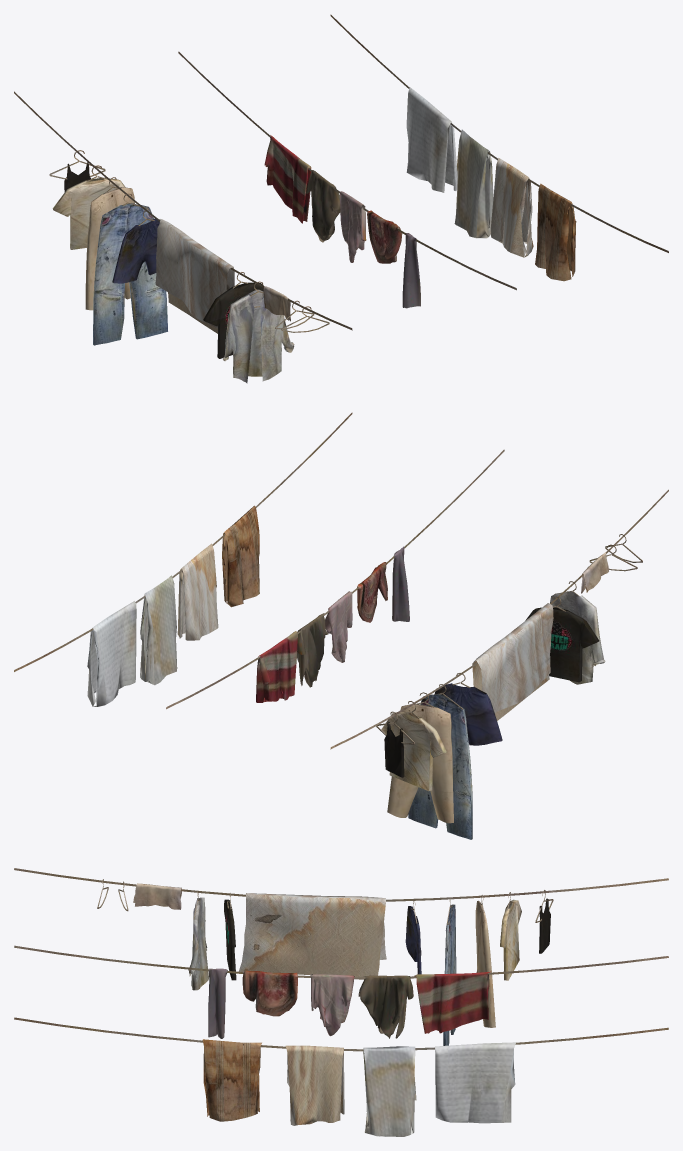
Rendered from laundry.glb.
3 views of the same model, one above another, from view 1: azimuth 30°, elevation 25°; view 2: azimuth 150°, elevation 25°; view 3: azimuth 270°, elevation 25° (orthographic). The views are drawn at different scales.
Parts seen in each view (by area): view 1: laundry; view 2: laundry; view 3: laundry.
Boxes of the visible parts, x1,y1,x2,y2 form: laundry: [14, 14, 668, 383]; laundry: [14, 412, 668, 839]; laundry: [14, 868, 668, 1136].
Bounding box in the file's own units: 5.03 × 2.3 × 7.99.
Materials: 5 (5 with a texture image).
